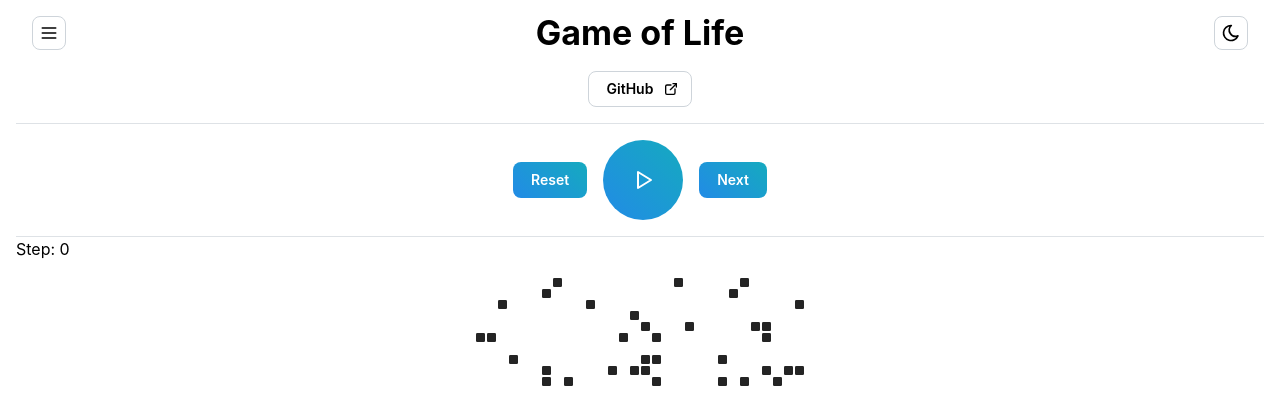
Test case: <Game /> › should increment the step number when clicking Next, and reset the step number when clicking Reset
Click the button "Next": x=733, y=180 [699,162,767,198]
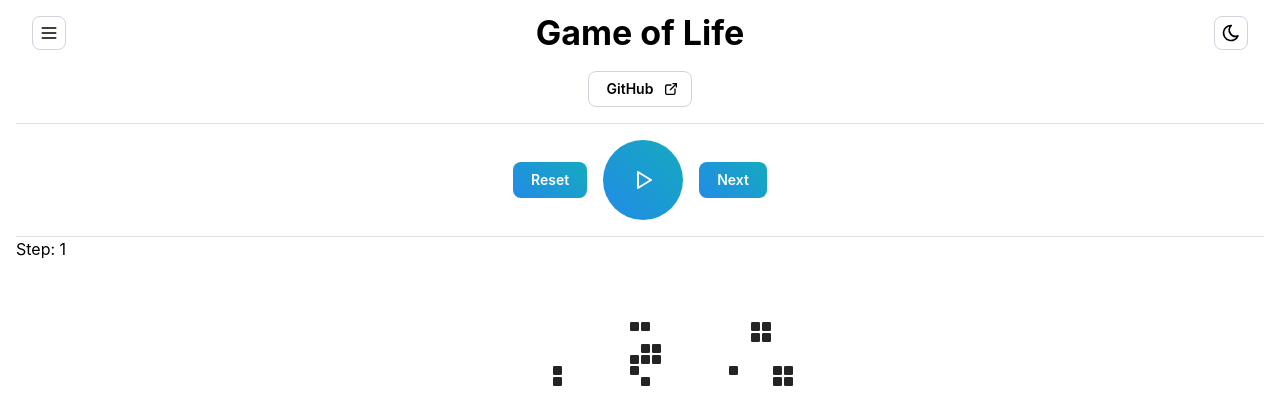
Click the button "Next": x=733, y=180 [699,162,767,198]
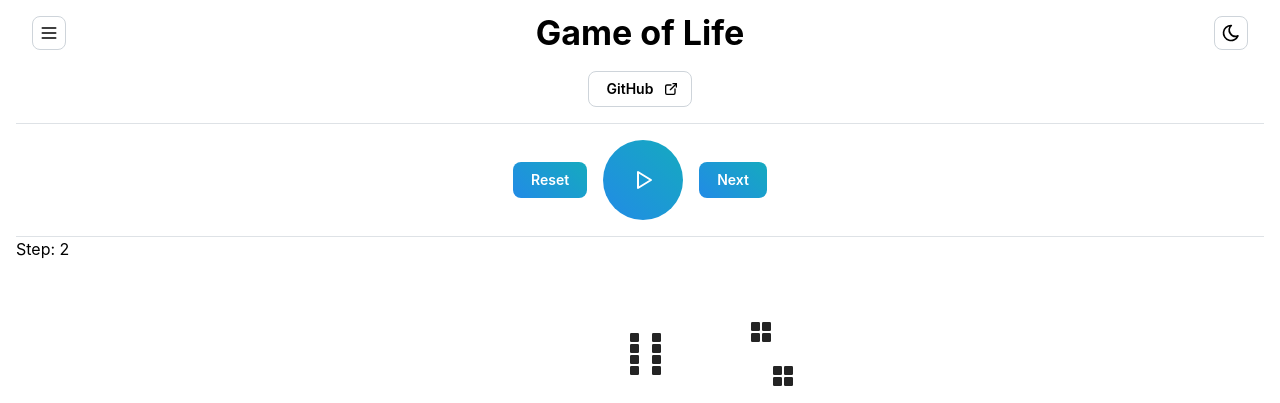
Click the button "Next": x=733, y=180 [699,162,767,198]
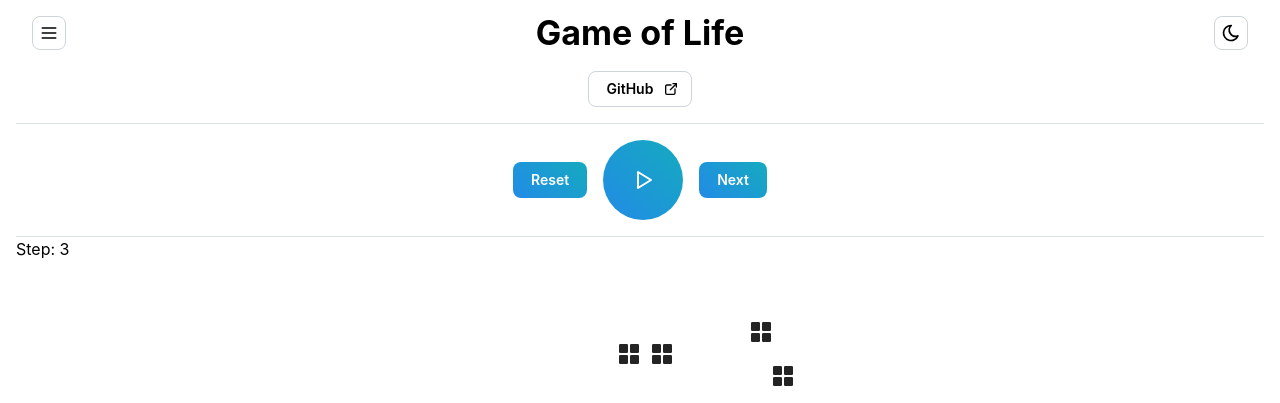
Click the button "Reset": x=550, y=180 [513,162,587,198]
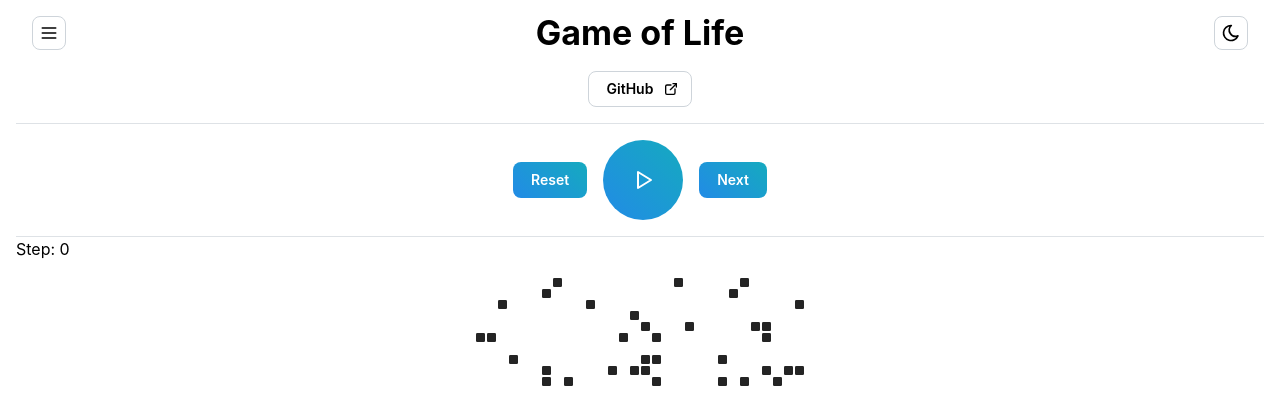
Now the text with test id "step-number" reads "Step: 0", box [16,239,70,259]
